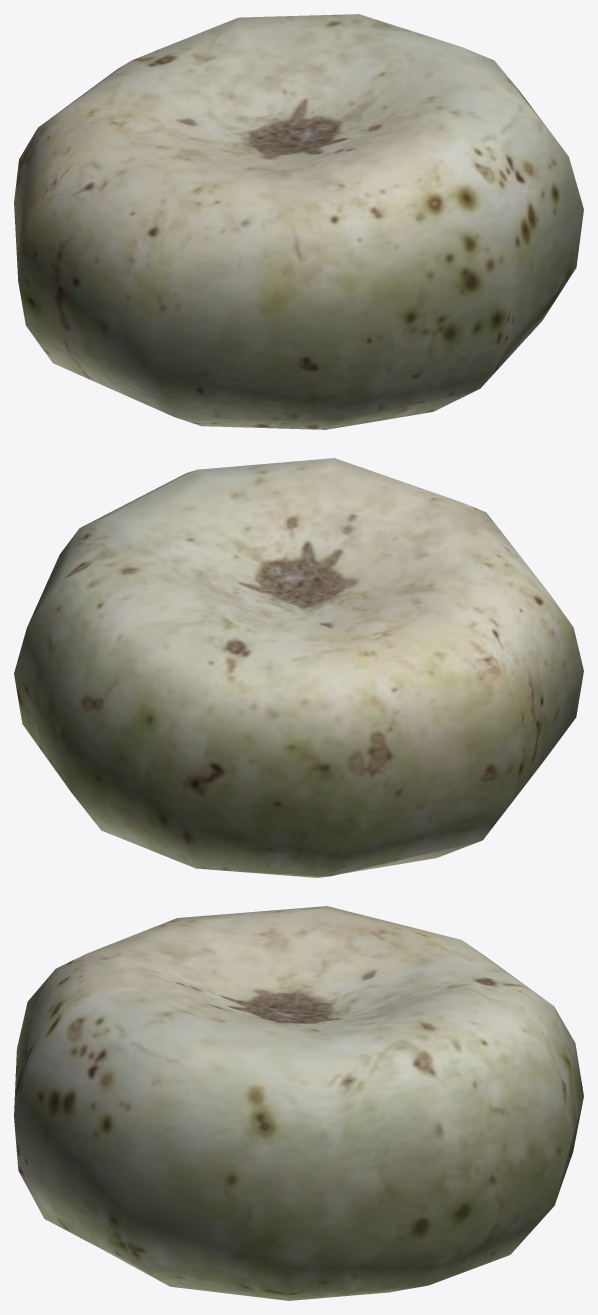
The model's file is A33_Turnip_low.fbx.
3 views of the same model, one above another, from view 1: azimuth 30°, elevation 25°; view 2: azimuth 150°, elevation 25°; view 3: azimuth 270°, elevation 25° (orthographic). The views are drawn at different scales.
Parts seen in each view (by area): view 1: A33_Turnip_low; view 2: A33_Turnip_low; view 3: A33_Turnip_low.
Part boxes in pixels (x1=…): A33_Turnip_low: x1=14, y1=14, x2=583, y2=429; A33_Turnip_low: x1=14, y1=458, x2=583, y2=877; A33_Turnip_low: x1=14, y1=906, x2=583, y2=1300.
Size of the model in its own units: 8.66 by 8.5 by 4.67.
1 material, 1 textured.
